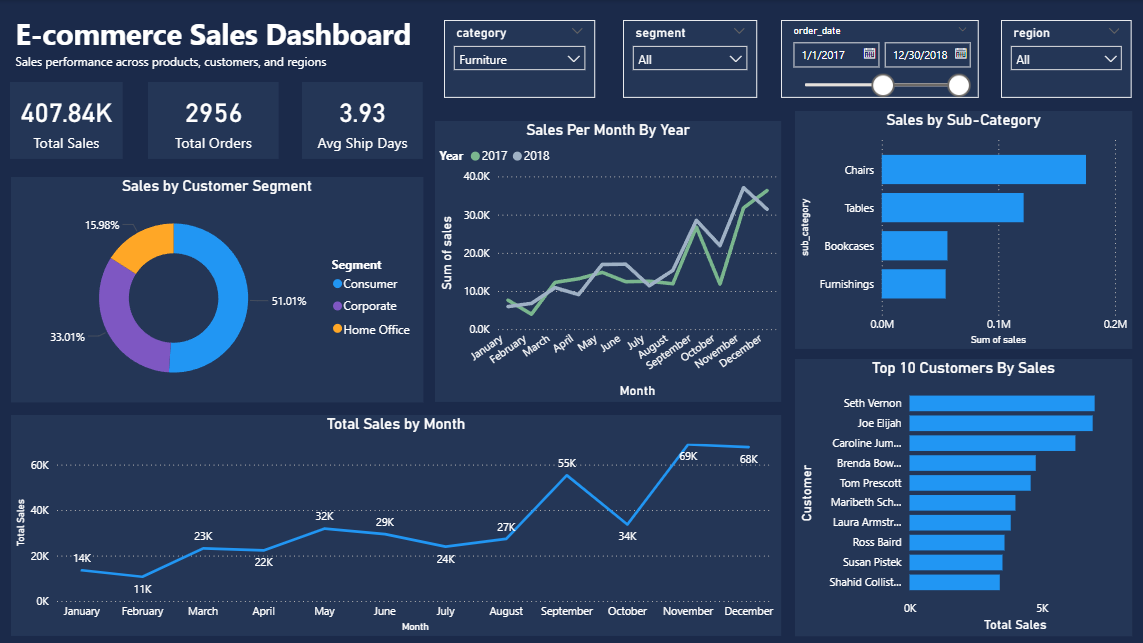

What the dashboard file says about the page in this screenshot:
{"tool":"powerbi","page":{"name":"Page 1","canvas":[1280,720],"ordinal":0},"visuals":[{"type":"card","fields":{"Values":["public orders.Avg Ship Days"]},"box":[338.9,91.9,135.3,85.8],"z":0,"group":"g1"},{"type":"lineChart","fields":{"Y":["public order_items.Total Sales"],"Category":["public orders.order_date.Variation.Date Hierarchy.Month"]},"box":[13.4,463.9,860.8,247.1],"z":0},{"type":"card","fields":{"Values":["public order_items.Total Sales"]},"box":[12.8,91.9,126.2,85.8],"z":1000,"group":"g1"},{"type":"textbox","box":[13.1,10.1,473.4,55.5],"z":2000},{"type":"card","fields":{"Values":["public orders.Total Orders"]},"box":[167.2,91.9,146.4,85.8],"z":2000,"group":"g1"},{"type":"textbox","box":[13.4,54.8,362.2,36.9],"z":3000},{"type":"group","id":"g1","title":"Group 1","box":[12.8,91.9,462,86.1],"z":4000},{"type":"slicer","fields":{"Values":["public orders.order_date"]},"box":[874.2,22.4,221.3,87.2],"z":5000},{"type":"slicer","fields":{"Values":["public customers.segment"]},"box":[697.6,22.4,149.8,87.2],"z":6000},{"type":"slicer","fields":{"Values":["public products.category"]},"box":[497.5,22.4,168.8,87.2],"z":7000},{"type":"slicer","fields":{"Values":["public locations.region"]},"box":[1120.1,22.4,146.4,87.2],"z":8000},{"type":"donutChart","title":"Sales by Customer Segment","fields":{"Category":["public customers.segment"],"Y":["Sum(public order_items.sales)"]},"box":[13.4,197.9,460.6,251.5],"z":8001},{"type":"clusteredBarChart","title":"Top 10 Customers By Sales","fields":{"Category":["public customers.customer_name"],"Y":["Sum(public order_items.sales)"]},"box":[889.9,401.3,376.7,309.7],"z":8002},{"type":"lineChart","title":"Sales Per Month By Year","fields":{"Series":["public orders.Year"],"Y":["Sum(public order_items.sales)"],"Category":["public orders.order_date.Variation.Date Hierarchy.Month"]},"box":[487.4,135.3,386.8,314.1],"z":8003},{"type":"clusteredBarChart","title":"Sales by Sub-Category","fields":{"Category":["public products.sub_category"],"Y":["Sum(public order_items.sales)"]},"box":[889.9,124.1,376.7,266.1],"z":8004}]}

Visuals, with their boxes in screenshot pixels (x1, y1, x2, y2), scaled from the page's 1280x720 canvas onto the 1143x643 screenshot:
card - public orders.Avg Ship Days: region(303, 82, 423, 159)
lineChart - public order_items.Total Sales x public orders.order_date.Variation.Date Hierarchy.Month: region(12, 414, 781, 635)
card - public order_items.Total Sales: region(11, 82, 124, 159)
textbox: region(12, 9, 434, 59)
card - public orders.Total Orders: region(149, 82, 280, 159)
textbox: region(12, 49, 335, 82)
"Group 1" group: region(11, 82, 424, 159)
slicer - public orders.order_date: region(781, 20, 978, 98)
slicer - public customers.segment: region(623, 20, 757, 98)
slicer - public products.category: region(444, 20, 595, 98)
slicer - public locations.region: region(1000, 20, 1131, 98)
"Sales by Customer Segment" donutChart: region(12, 177, 423, 401)
"Top 10 Customers By Sales" clusteredBarChart: region(795, 358, 1131, 635)
"Sales Per Month By Year" lineChart: region(435, 121, 781, 401)
"Sales by Sub-Category" clusteredBarChart: region(795, 111, 1131, 348)
